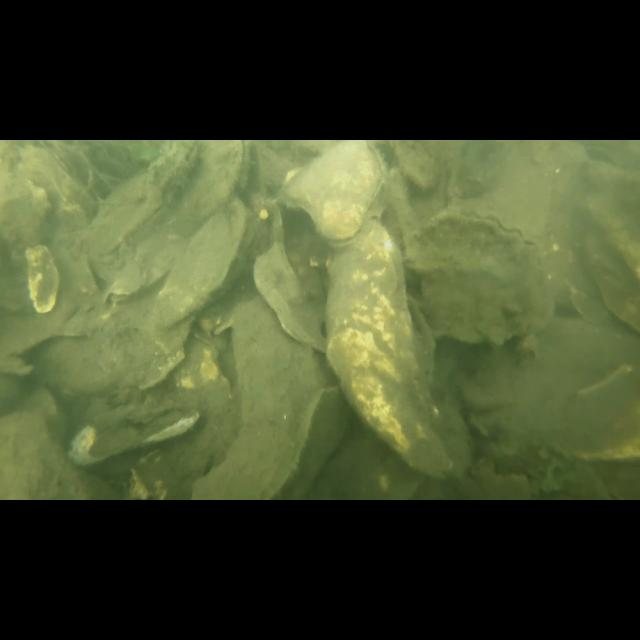Oyster-Closed: (324, 218, 454, 480), (188, 296, 348, 500), (408, 207, 552, 346), (89, 140, 197, 262), (154, 200, 248, 330), (282, 140, 388, 246), (254, 244, 326, 356), (182, 140, 250, 222), (23, 243, 59, 313)
